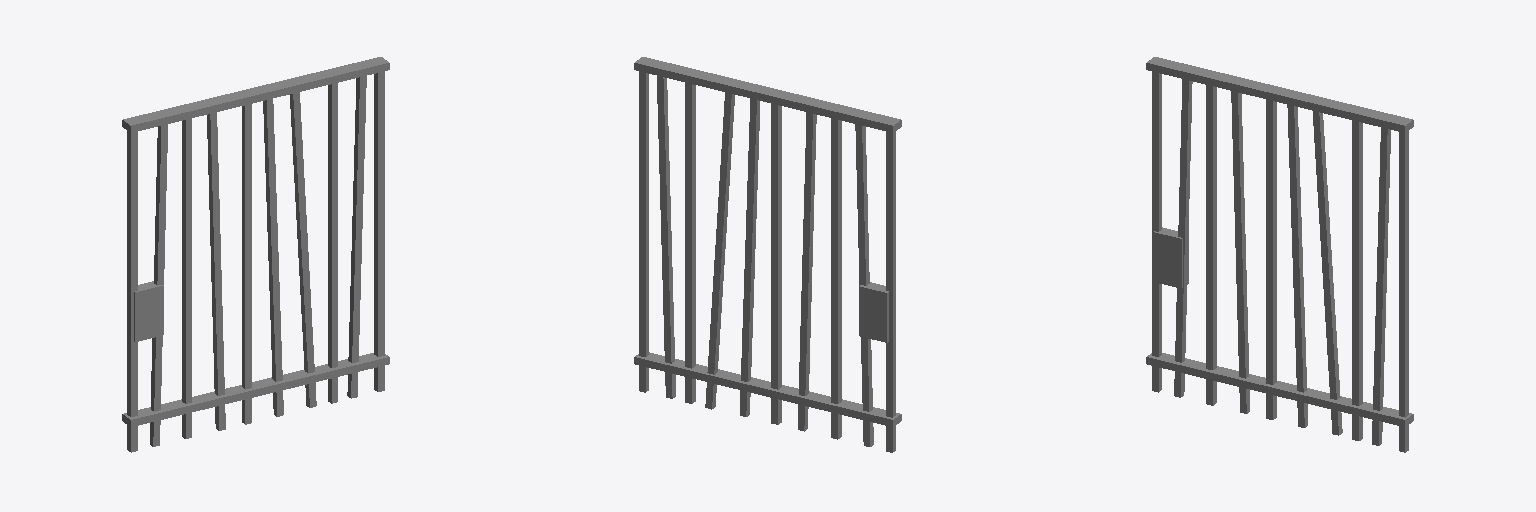
The model's file is puerta.obj.
3 renders of one model, left to right at view 1: azimuth 30°, elevation 25°; view 2: azimuth 150°, elevation 25°; view 3: azimuth 330°, elevation 25°, orthographic.
Visible parts, largest first — view 1: puertabidones; view 2: puertabidones; view 3: puertabidones.
Boxes of the visible parts, <box> form: puertabidones: <box>122,57,389,452</box>; puertabidones: <box>634,57,901,452</box>; puertabidones: <box>1146,57,1413,452</box>.
Size of the model in its own units: 14.83 by 18.06 by 0.839.